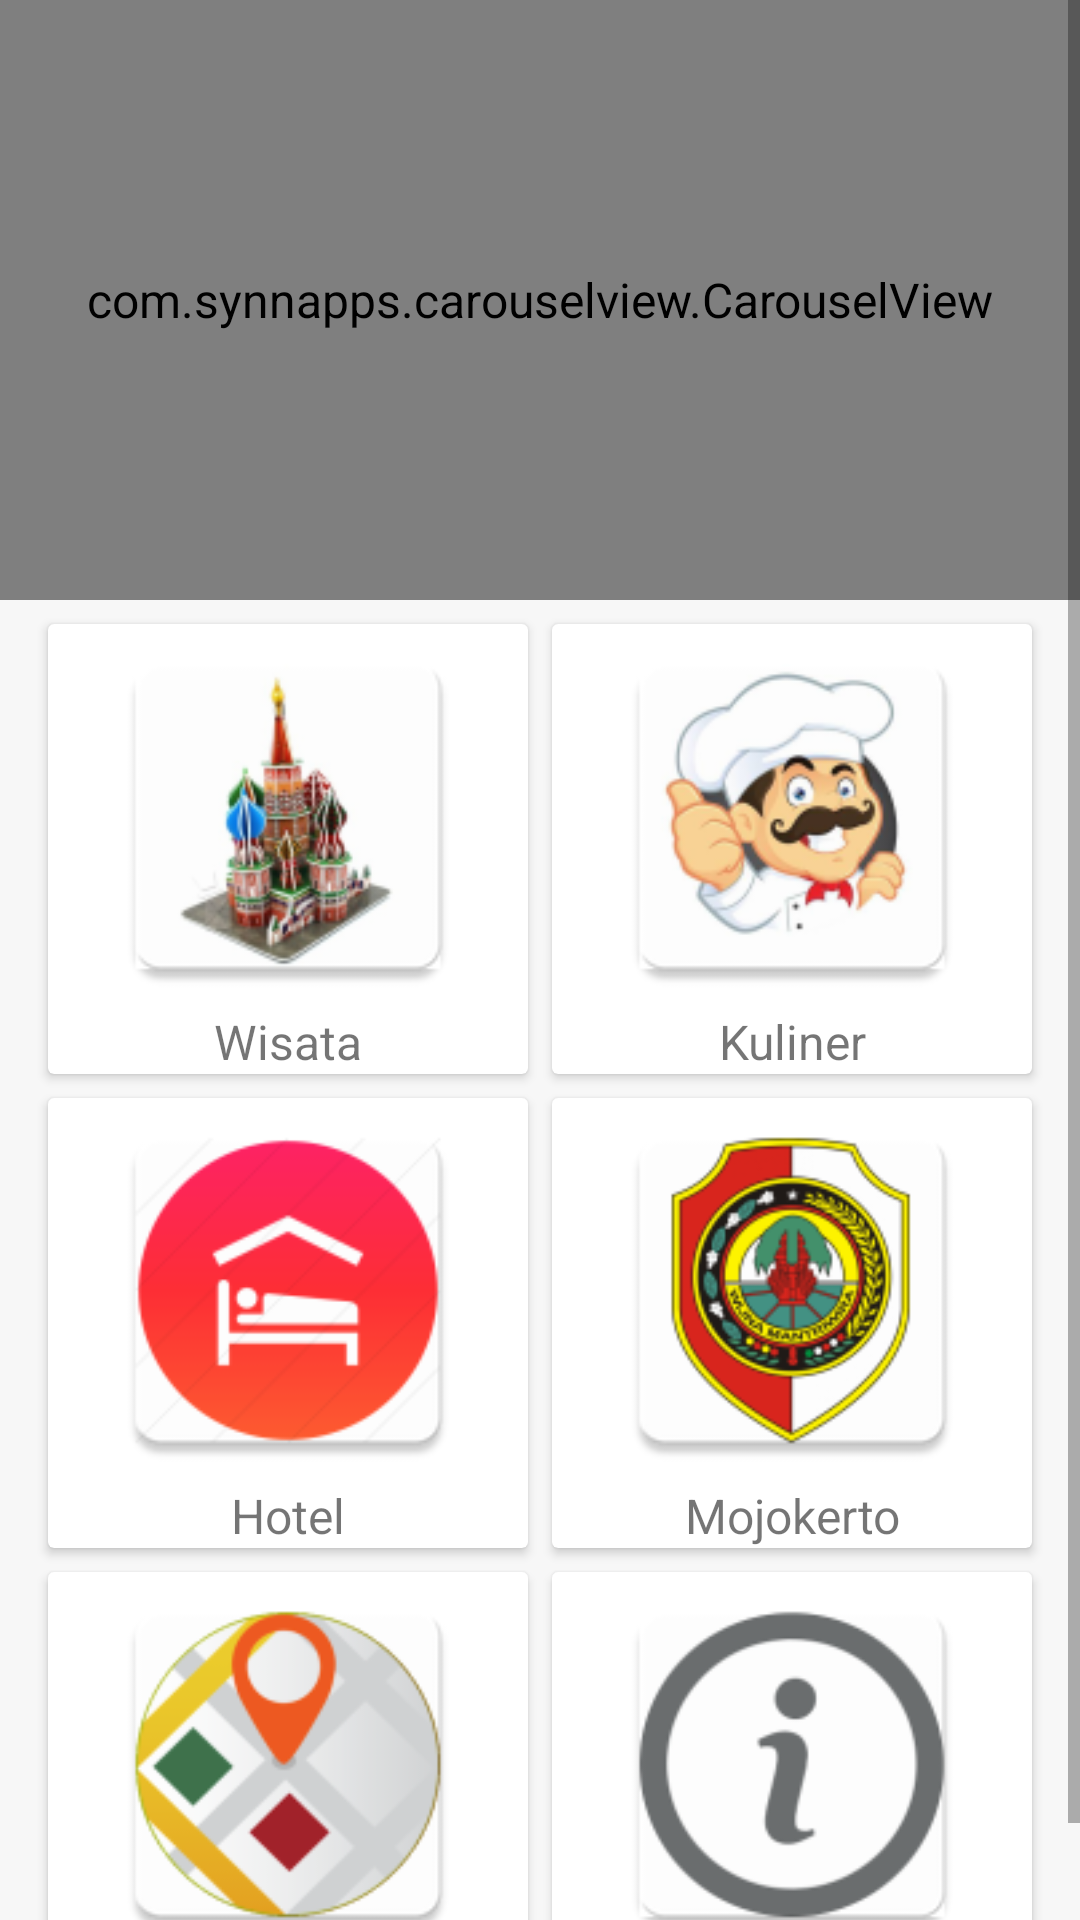

Screen size 1080px x 1920px. Icon name, then its box in pixels as (x1, y1, x2, y2):
nearby: (134, 1611, 442, 1920)
